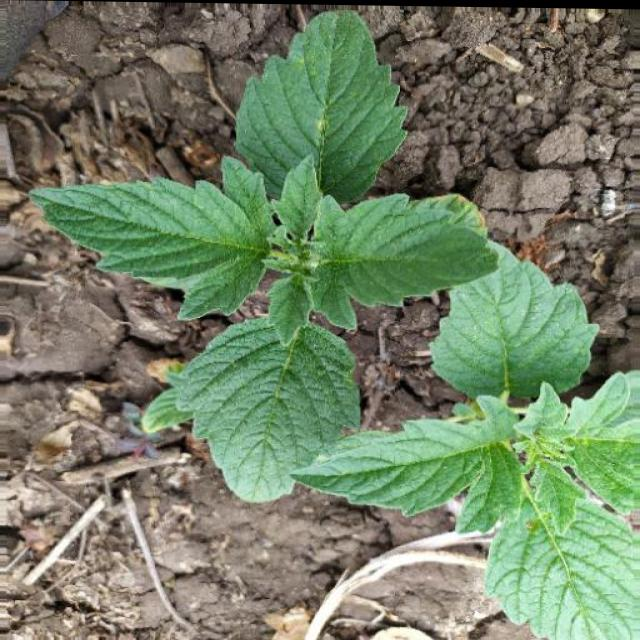crop: (30, 24, 516, 494), (305, 226, 639, 639)
